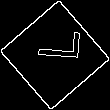L_W: (29, 38, 81, 72)
